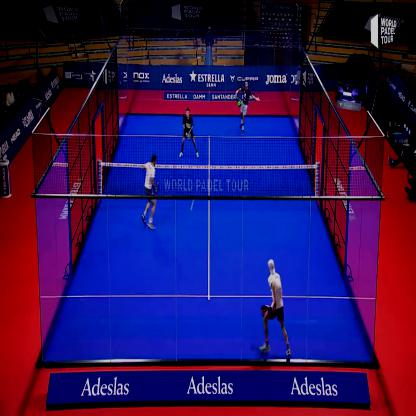ball: (188, 200, 196, 214)
